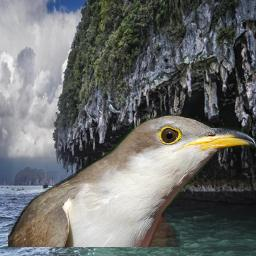Cuckoo: (8, 114, 256, 247)
